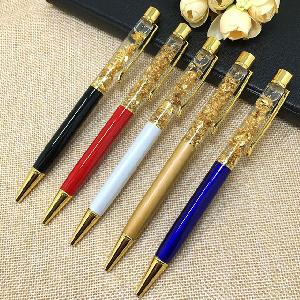pen: (10, 2, 295, 300)
